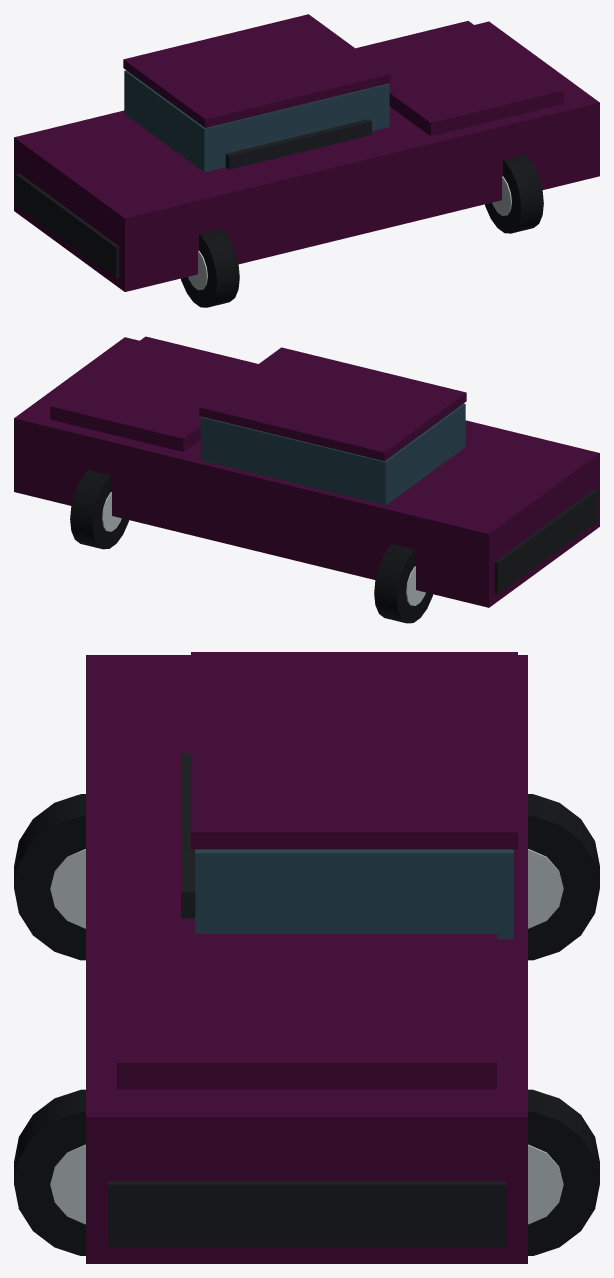
Rendered from chevy_cobalt.glb.
3 views of the same model, one above another, from view 1: azimuth 30°, elevation 25°; view 2: azimuth 150°, elevation 25°; view 3: azimuth 270°, elevation 25° (orthographic). The views are drawn at different scales.
Parts seen in each view (by area): view 1: body, roof, hood, cabin, rear_bumper, front_right_wheel, rear_right_wheel, interior; view 2: body, roof, hood, cabin, rear_bumper, front_left_wheel, rear_left_wheel; view 3: body, roof, hood, cabin, front_bumper, rear_left_wheel, rear_right_wheel, front_left_wheel, front_right_wheel, interior.
Part boxes in pixels (x1,y1,x2,y2): body: (14,21,599,291); roof: (123,14,390,127); hood: (356,21,563,136); cabin: (124,70,389,172); rear_bumper: (16,173,119,278); front_right_wheel: (485,154,543,233); rear_right_wheel: (181,228,239,307); interior: (225,119,371,169); body: (14,337,599,607); roof: (199,347,466,461); hood: (50,336,258,451); cabin: (200,403,465,505); rear_bumper: (494,489,597,594); front_left_wheel: (70,470,128,549); rear_left_wheel: (374,544,432,623); body: (86,655,527,1263); roof: (191,652,517,849); hood: (117,933,496,1089); cabin: (195,849,513,939); front_bumper: (108,1181,505,1246); rear_left_wheel: (528,794,599,960); rear_right_wheel: (14,794,85,960); front_left_wheel: (528,1089,599,1255); front_right_wheel: (14,1089,85,1255); interior: (181,753,195,918).
Size of the model in its own units: 4.67 by 1.48 by 2.47.
